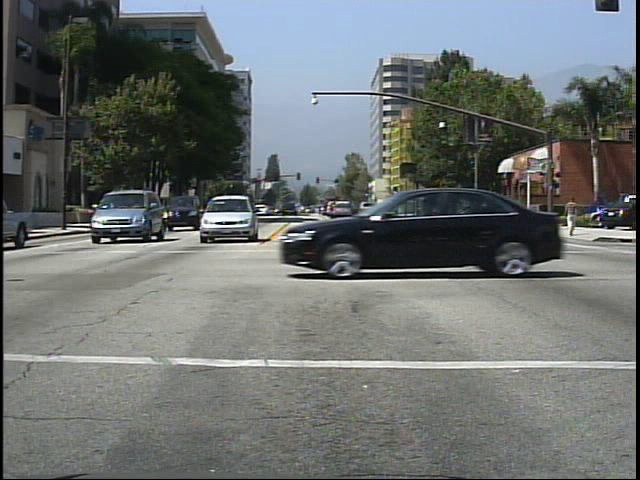person: (563, 192, 588, 243)
